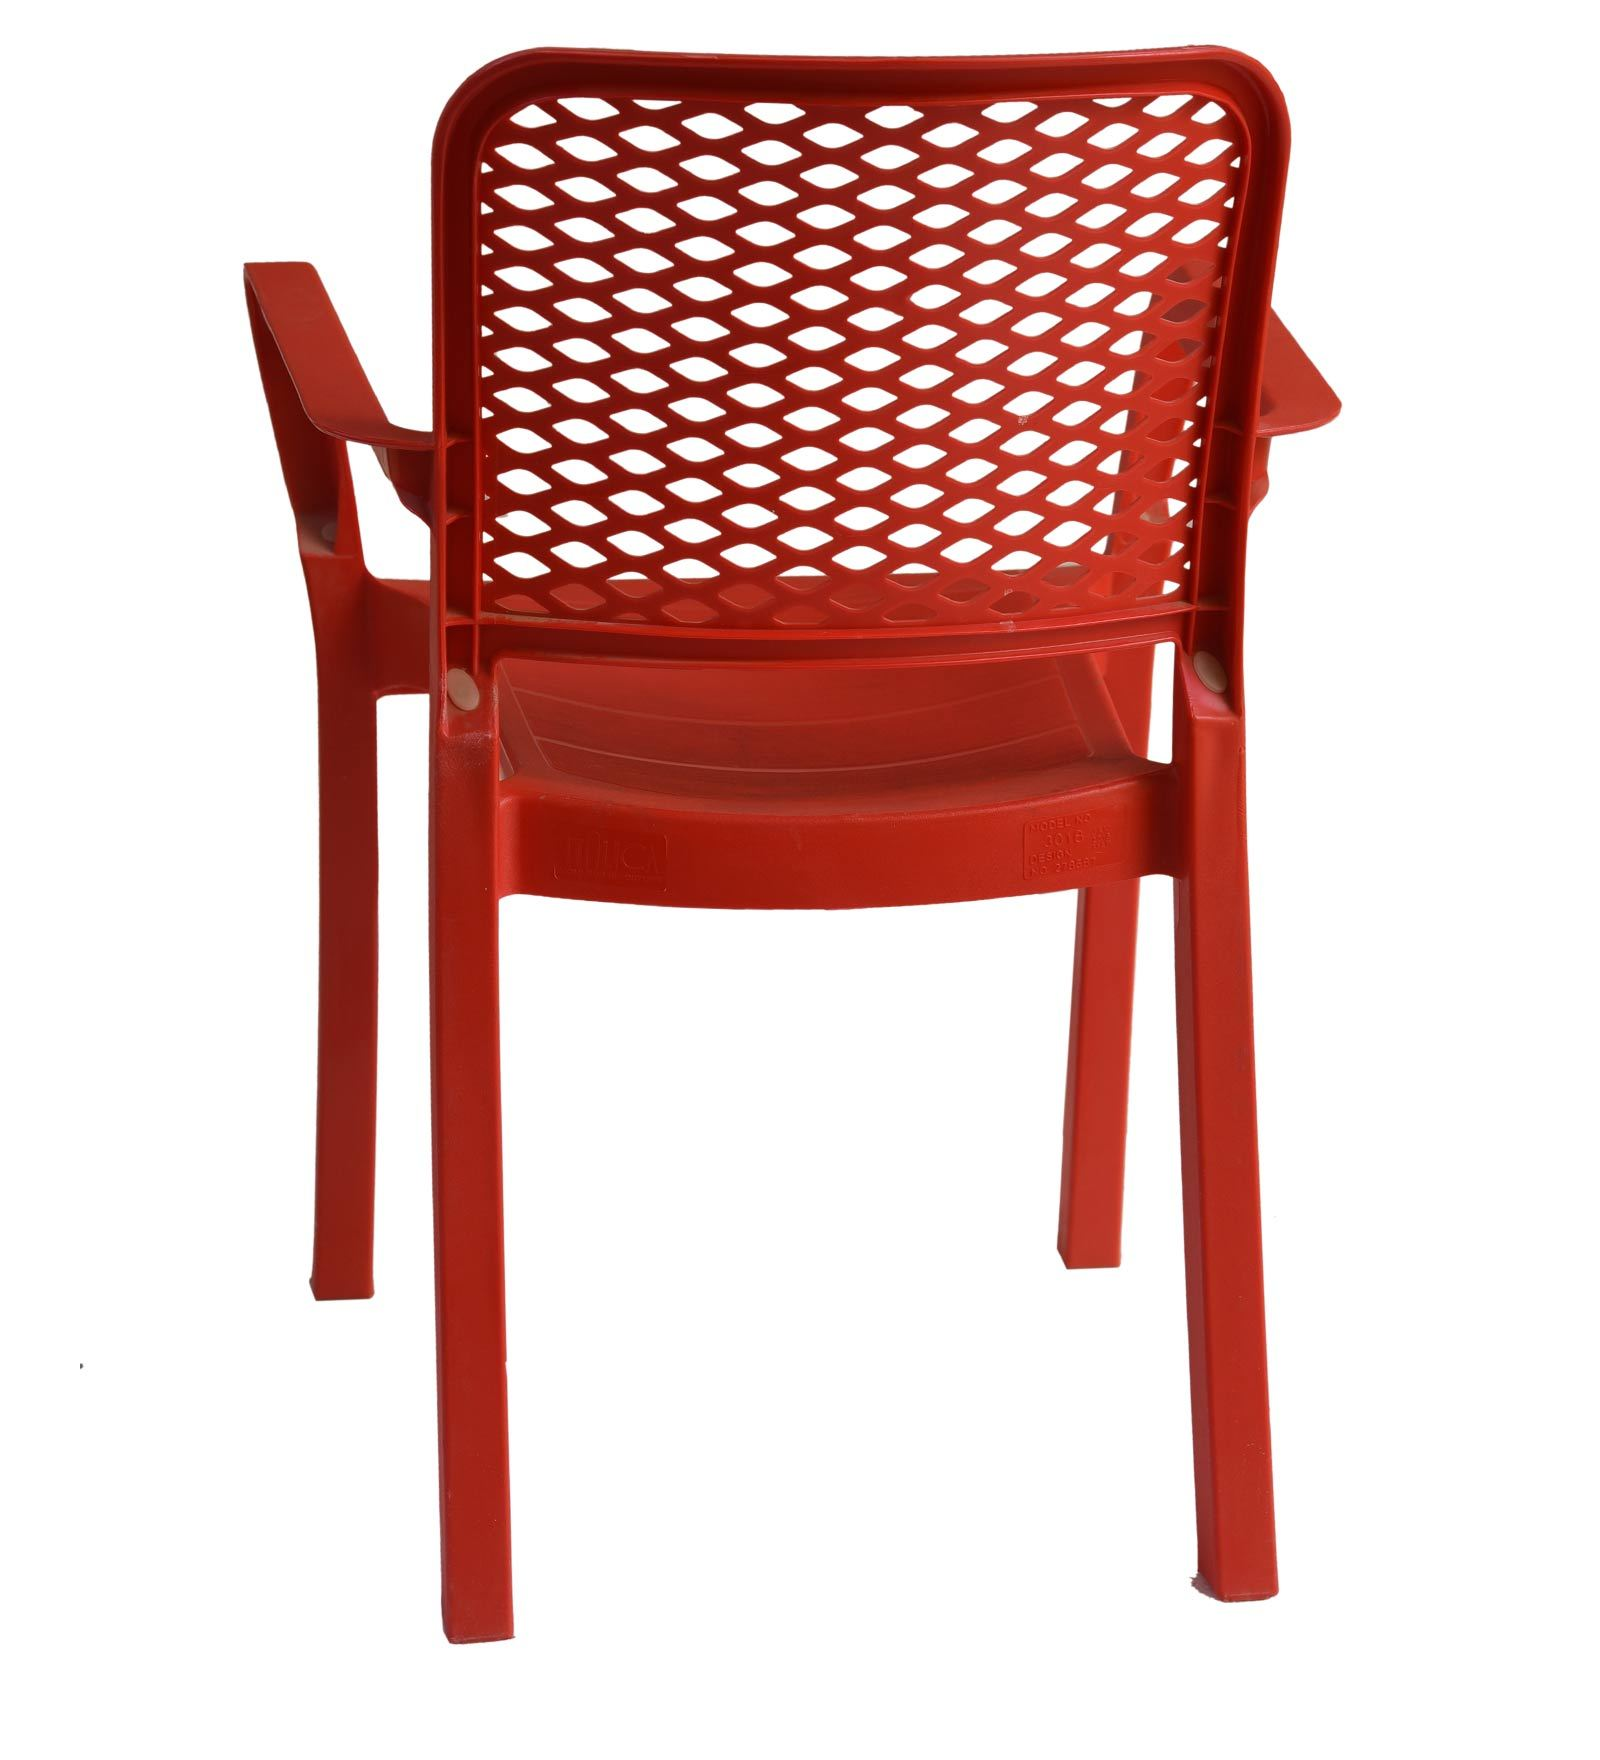Luxury Plastic Chair in Red Colour by Italica Furniture: (228, 28, 1353, 1650)
